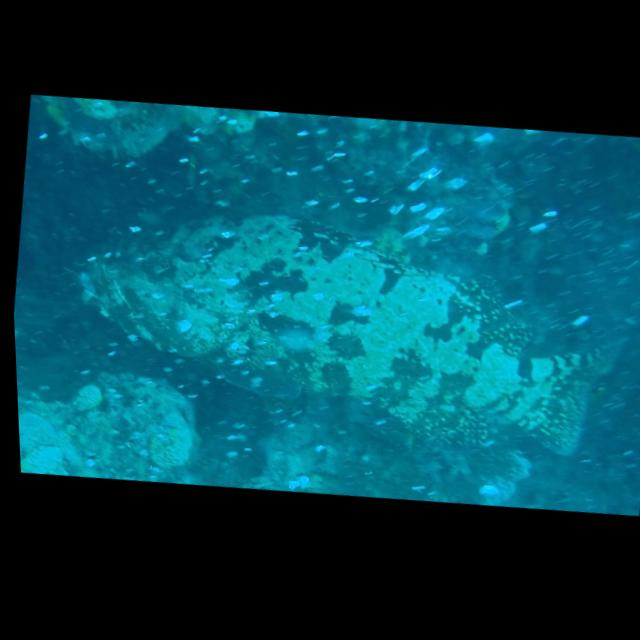Groupers: (59, 171, 640, 490)
